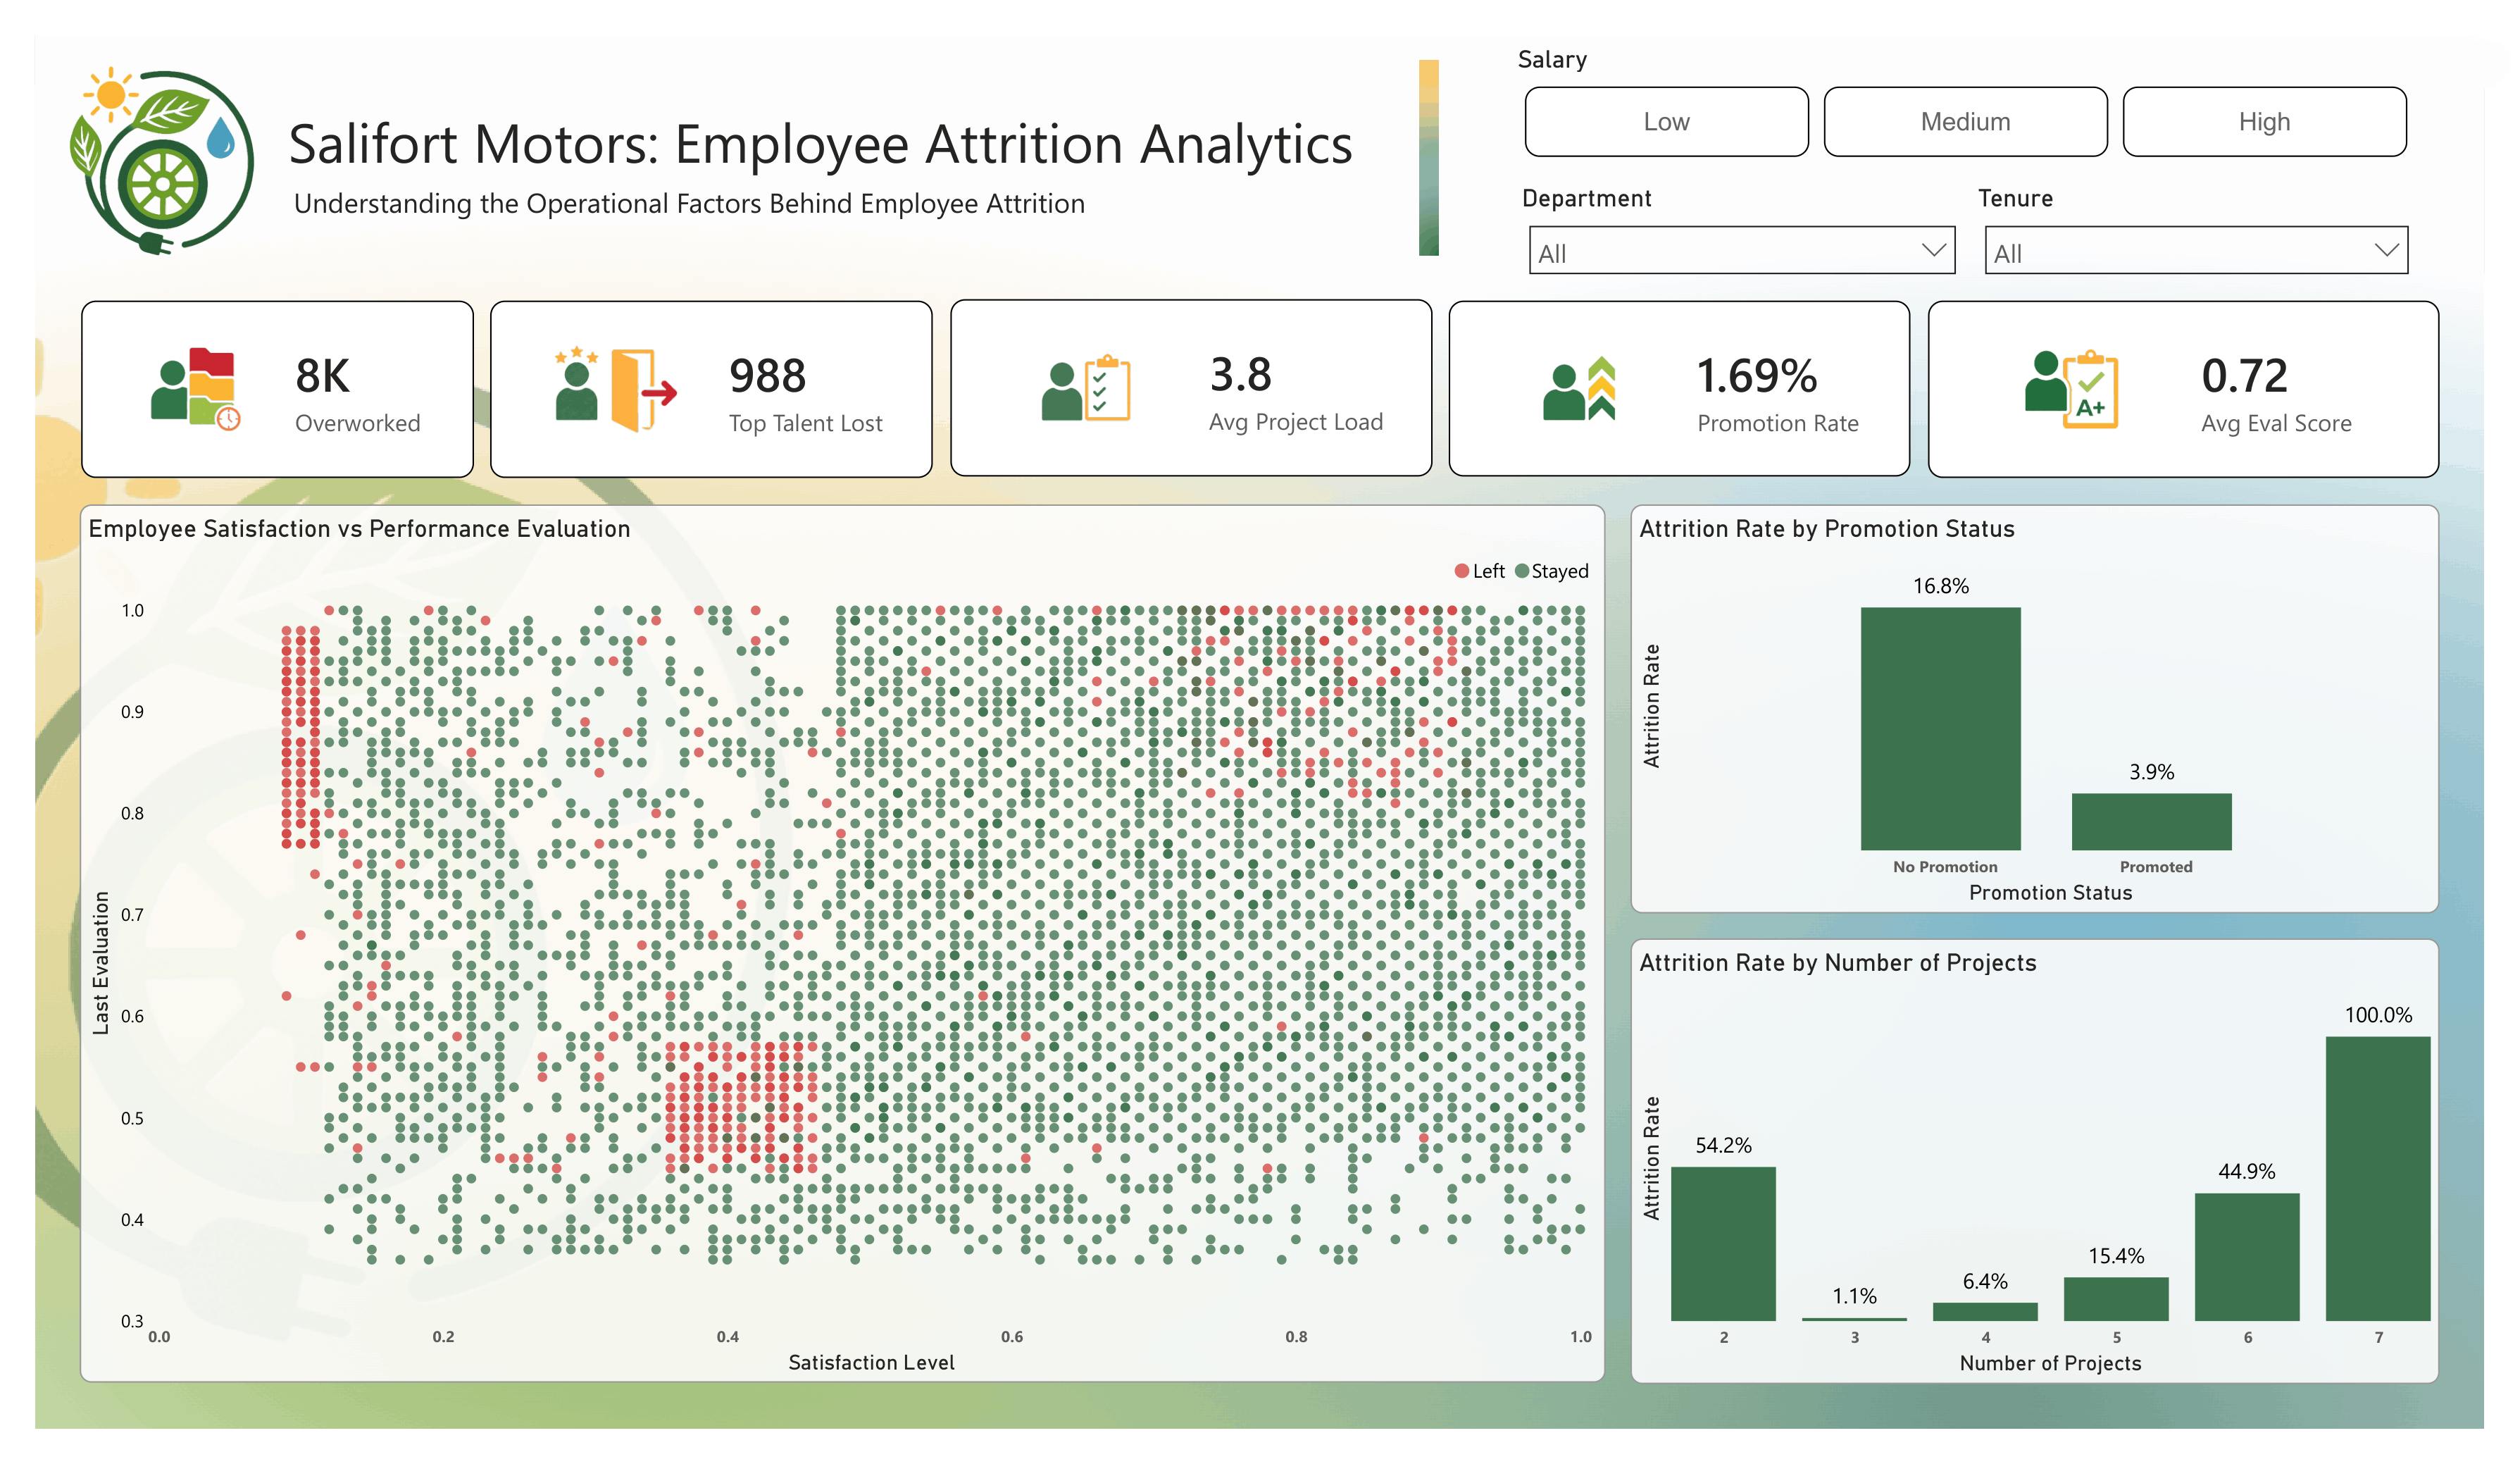

What the dashboard file says about the page in this screenshot:
{"tool":"powerbi","page":{"name":"Workload & Burnout Drivers","canvas":[1670,950],"ordinal":1},"visuals":[{"type":"image","box":[0,180.7,545,737.1],"z":0},{"type":"image","box":[937.6,19.7,13.7,133.5],"z":1000},{"type":"textbox","box":[167,42.2,759.8,78.8],"z":2000},{"type":"textbox","box":[171.4,95.6,562.8,34.9],"z":3000},{"type":"image","box":[13.1,17.2,145.3,138.1],"z":4000},{"type":"cardVisual","fields":{"Data":["Employee Attrition Data.High Performer Leavers"]},"box":[310,180.7,302.1,121.4],"z":5000},{"type":"cardVisual","fields":{"Data":["Employee Attrition Data.Average Projects"]},"box":[623.5,180.5,329,121.5],"z":6000},{"type":"cardVisual","fields":{"Data":["Employee Attrition Data.Overworked Employees"]},"box":[30.7,180.7,267.9,121.4],"z":7000},{"type":"cardVisual","fields":{"Data":["Employee Attrition Data.Average Last Evaluation"]},"box":[1291,180.5,348.9,121.4],"z":8000},{"type":"cardVisual","fields":{"Data":["Employee Attrition Data.Promotion Rate"]},"box":[964.5,181,315,121],"z":9000},{"type":"clusteredColumnChart","title":"Attrition Rate by Number of Projects","fields":{"Category":["Employee Attrition Data.Number Projects"],"Y":["Employee Attrition Data.Attrition Rate %"]},"box":[1088,616.4,552.4,303.3],"z":10000},{"type":"scatterChart","title":"Employee Satisfaction vs Performance Evaluation","fields":{"X":["Avg(Employee Attrition Data.Satisfaction Level)"],"Y":["Sum(Employee Attrition Data.Last Evaluation)"],"Series":["Employee Attrition Data.Attrition Status"],"Category":["Employee Attrition Data.Employee ID"]},"box":[30.3,320.1,1040.7,599.2],"z":11000},{"type":"clusteredColumnChart","title":"Attrition Rate by Promotion Status","fields":{"Category":["Employee Attrition Data.Promotion Status"],"Y":["Employee Attrition Data.Attrition Rate %"]},"box":[1087.7,320.1,552.2,279.1],"z":12000},{"type":"slicer","title":"Department","fields":{"Values":["Employee Attrition Data.Department"]},"box":[1008.8,100.7,311.4,73.6],"z":13000},{"type":"ChicletSlicer1448559807354","title":"Salary","fields":{"Category":["Employee Attrition Data.Salary"]},"box":[1005.9,6.4,623.6,94.3],"z":14000},{"type":"slicer","title":"Tenure","fields":{"Values":["Employee Attrition Data.Tenure"]},"box":[1320.2,100.7,309.3,73.6],"z":15000}]}

Visuals, with their boxes on the page's 1670x950 design canvas (x1, y1, x2, y2). These are canvas units, not pixel positions in the 2520x1464 screenshot, which may show the page scaled, cropped or inside an application window:
image: 0/181/545/918
image: 938/20/951/153
textbox: 167/42/927/121
textbox: 171/96/734/130
image: 13/17/158/155
cardVisual - Employee Attrition Data.High Performer Leavers: 310/181/612/302
cardVisual - Employee Attrition Data.Average Projects: 624/180/952/302
cardVisual - Employee Attrition Data.Overworked Employees: 31/181/299/302
cardVisual - Employee Attrition Data.Average Last Evaluation: 1291/180/1640/302
cardVisual - Employee Attrition Data.Promotion Rate: 964/181/1280/302
"Attrition Rate by Number of Projects" clusteredColumnChart: 1088/616/1640/920
"Employee Satisfaction vs Performance Evaluation" scatterChart: 30/320/1071/919
"Attrition Rate by Promotion Status" clusteredColumnChart: 1088/320/1640/599
"Department" slicer: 1009/101/1320/174
"Salary" ChicletSlicer1448559807354: 1006/6/1630/101
"Tenure" slicer: 1320/101/1630/174
